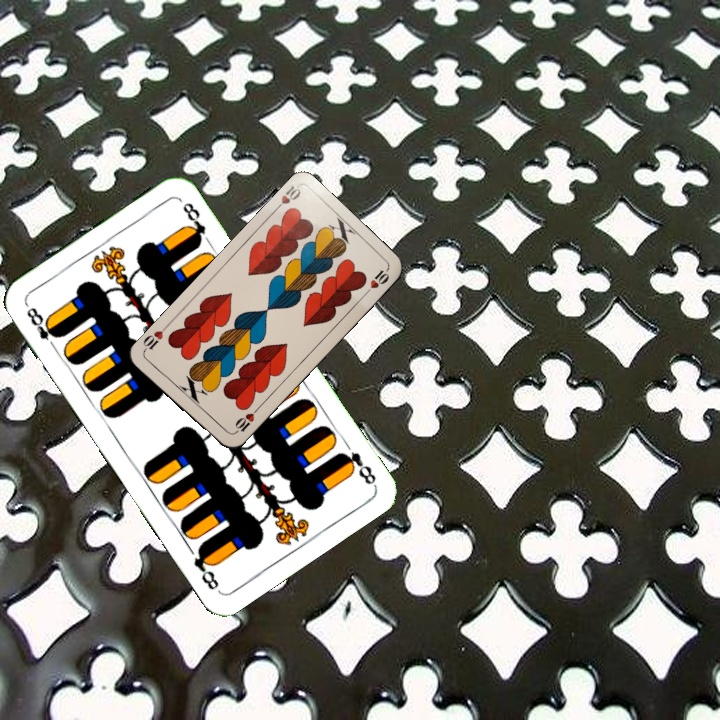E8: (22, 303, 63, 353), (334, 447, 379, 488)
H10: (269, 182, 304, 215), (229, 404, 261, 437)
